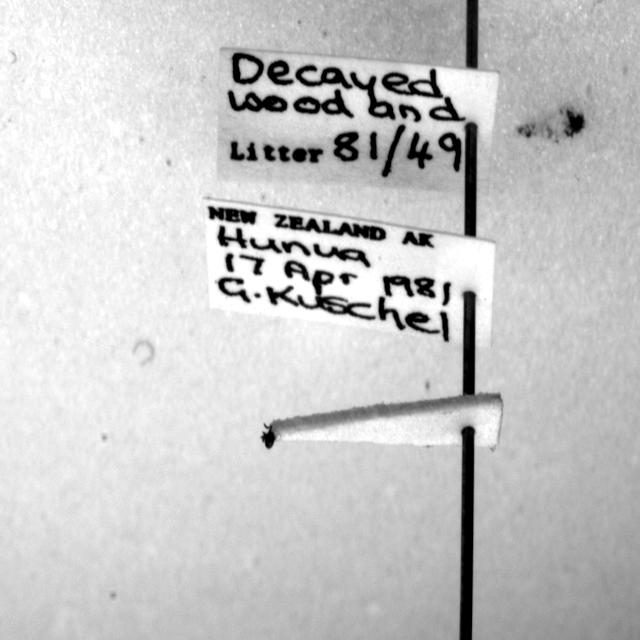mixed_label: (204, 199, 495, 347), (218, 49, 499, 195)
